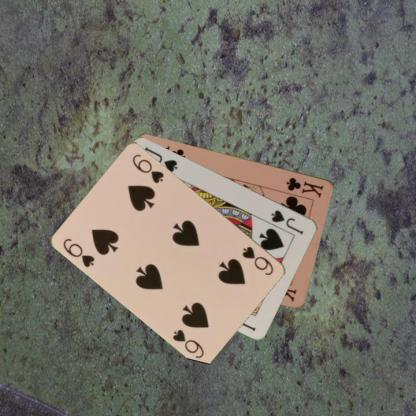6s: (240, 243, 275, 277), (60, 235, 96, 268)
Js: (269, 207, 305, 236)
Kc: (284, 174, 324, 199)
